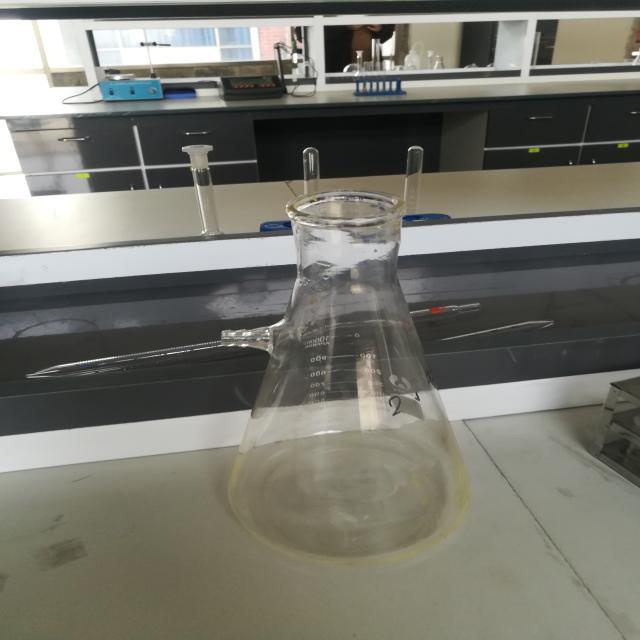Conical_Flask: (207, 137, 514, 604)
